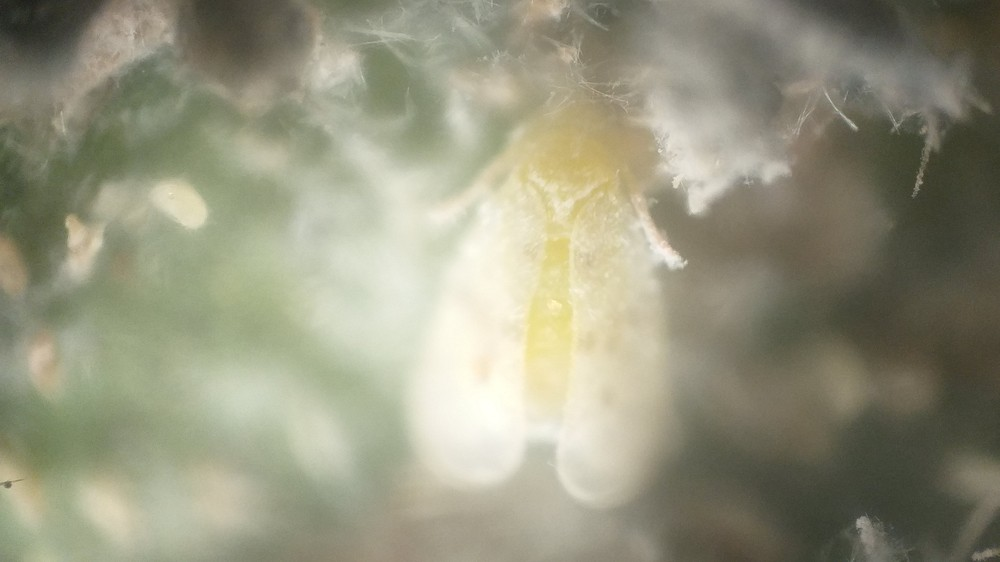Mosca Blanca: (371, 90, 739, 519)
